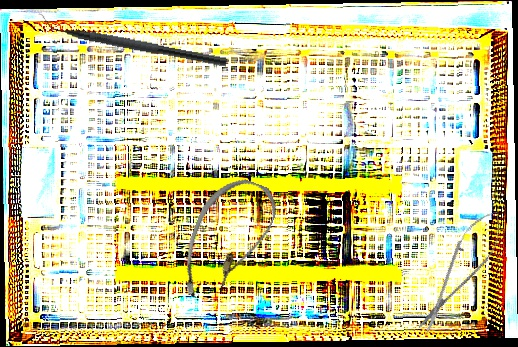Cannula: (171, 168, 284, 314)
Chopper: (34, 11, 231, 67)
Micro Scissor: (407, 202, 513, 341)
